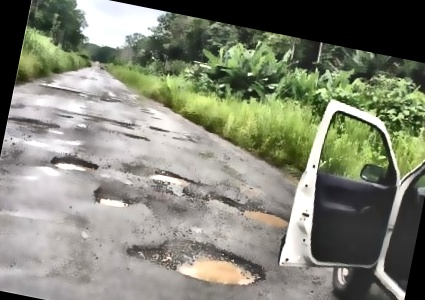pothole: (122, 225, 272, 294), (236, 200, 293, 229), (47, 151, 99, 176), (7, 111, 58, 132), (91, 186, 132, 211), (148, 167, 193, 188), (121, 129, 151, 143)
